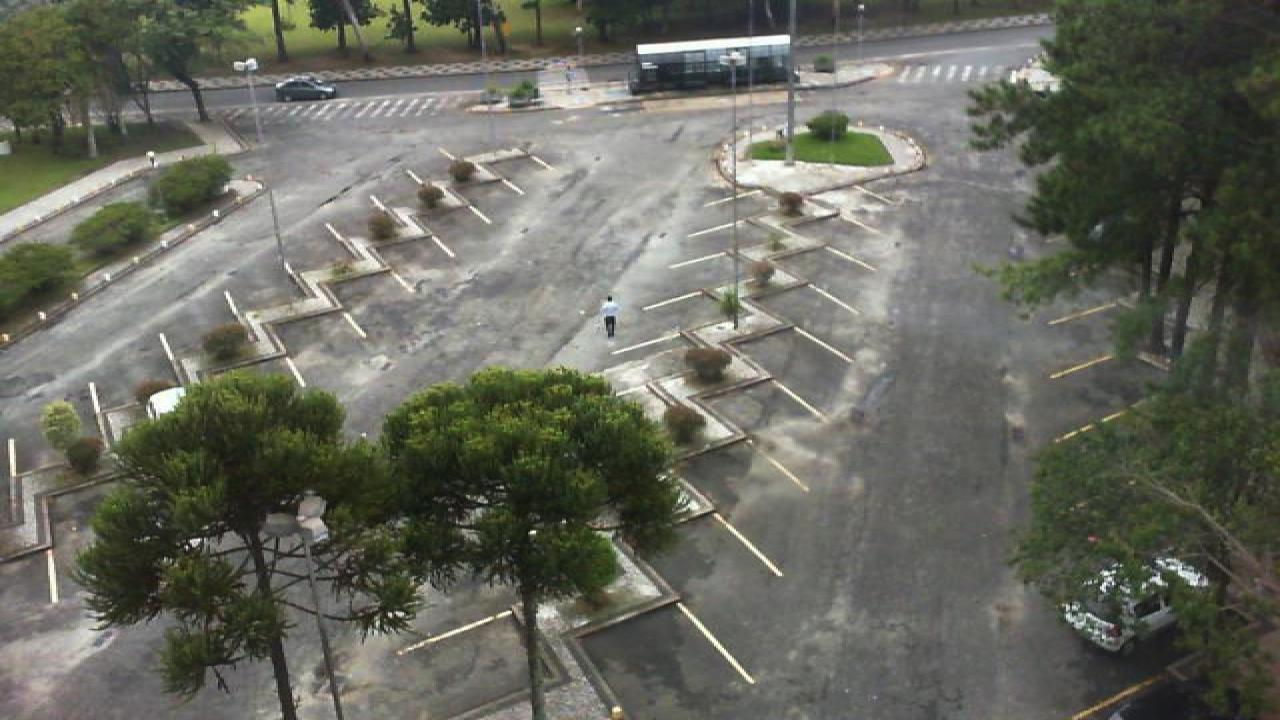Car: (1054, 554, 1210, 656), (146, 386, 192, 420)
